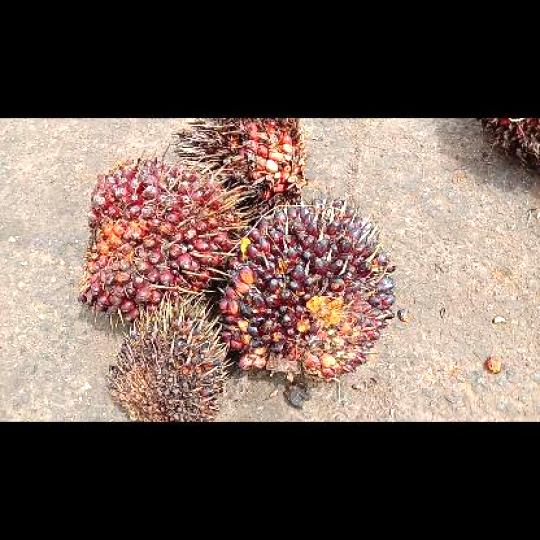kurang masak: (215, 195, 395, 381)
masak: (74, 155, 238, 328)
terlalu masak: (170, 119, 308, 219)
